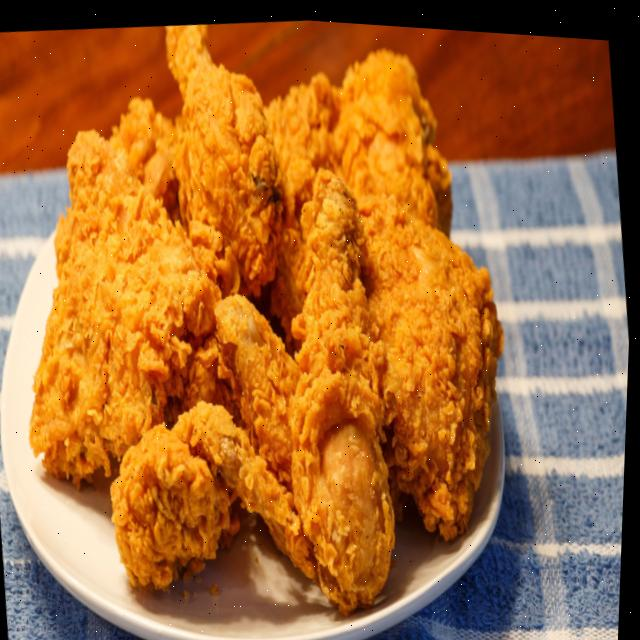Wet: (254, 152, 426, 630), (151, 14, 309, 307)
